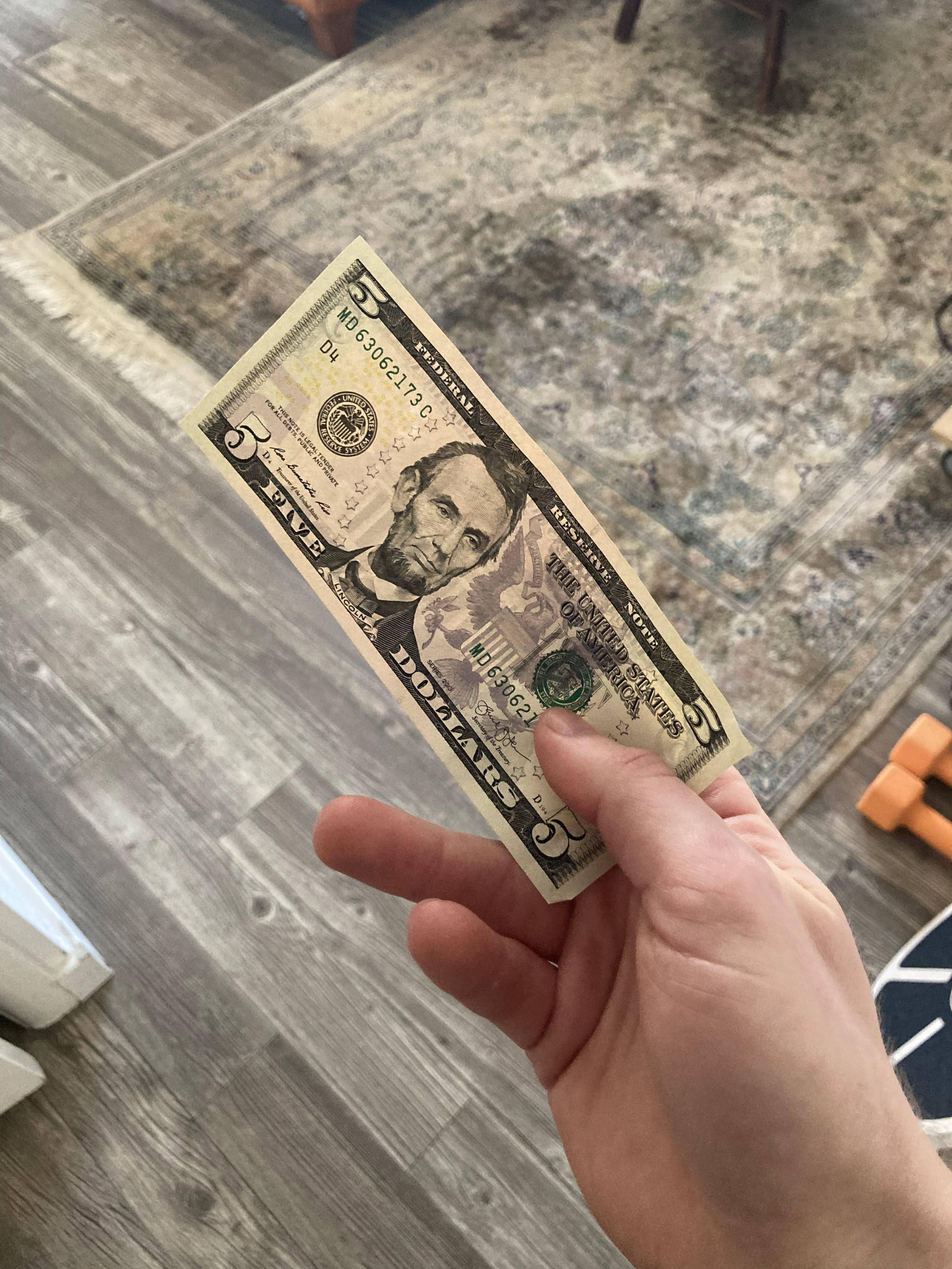five-front: (174, 234, 758, 910)
